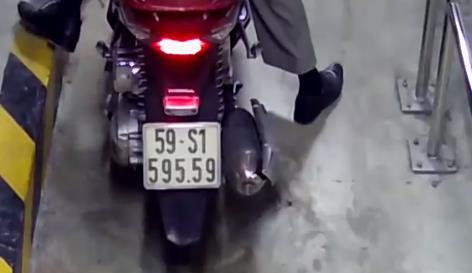lisence: (142, 121, 220, 189)
